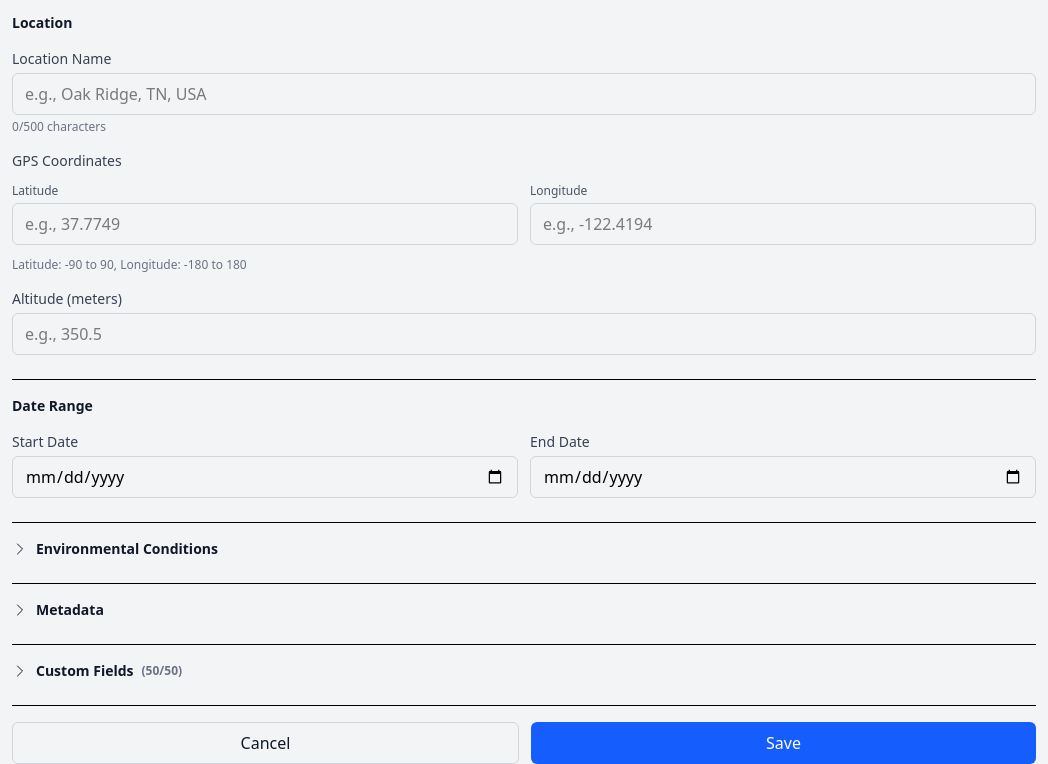
Test: DeploymentEditor › disables add button when 50 custom keys reached
(page scrolled)
Note: Expand custom section
Click the button "Custom Fields (50/50)" at point(97, 671), box [12, 661, 182, 681]
(page scrolled)
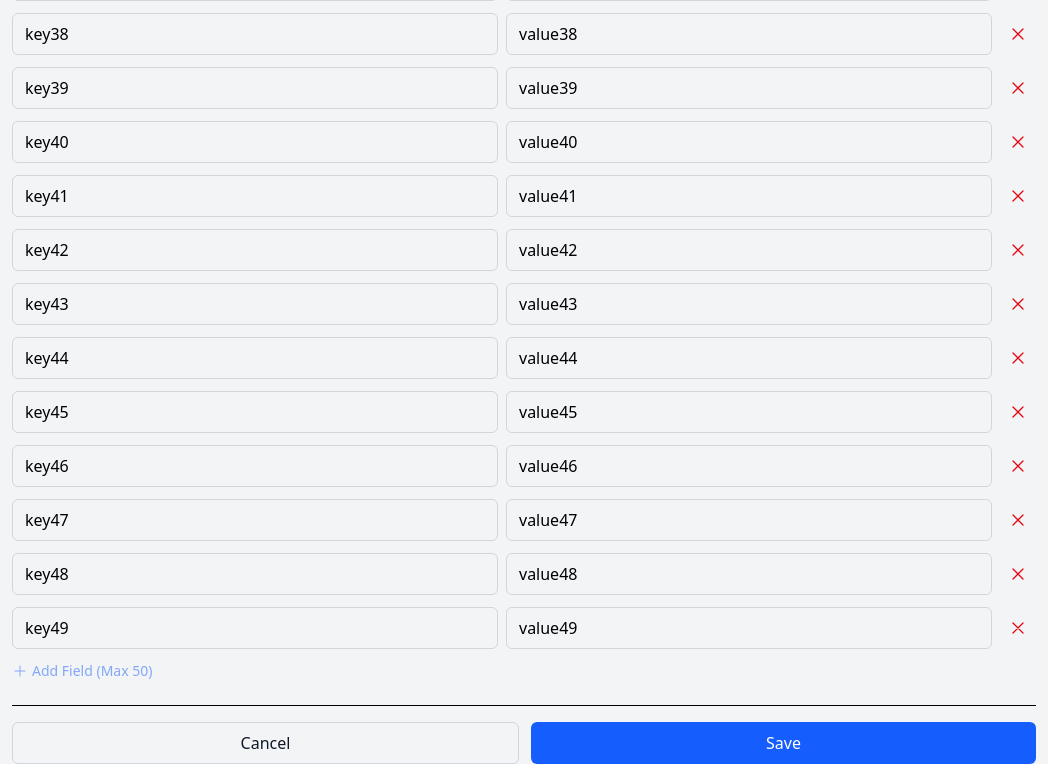
Now the button with aria-label "add custom field" is disabled, box [12, 661, 152, 681]
